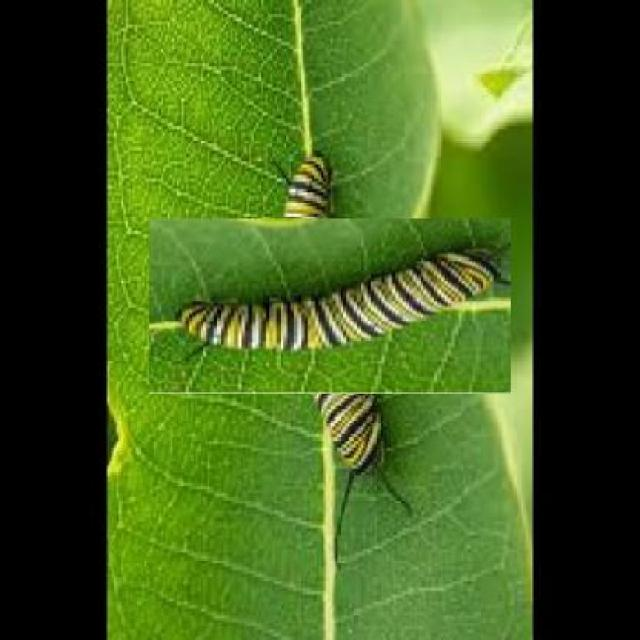Plaga: (194, 170, 465, 441)
